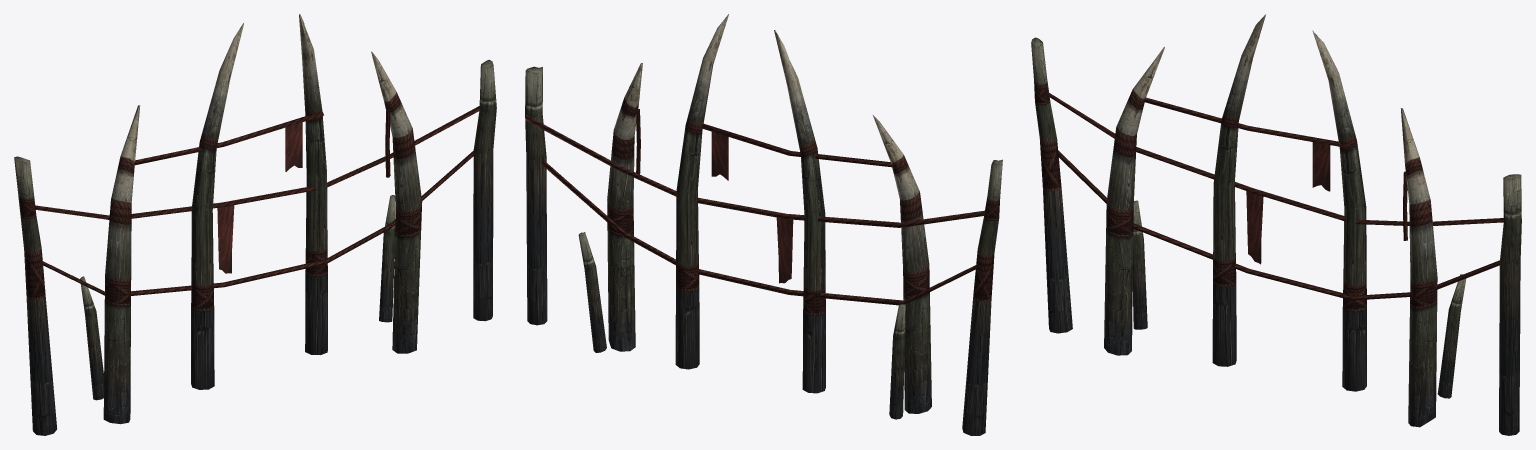
File: camp_redthief_gate_01.fbx
3 views of the same model, side by side, from view 1: azimuth 30°, elevation 25°; view 2: azimuth 150°, elevation 25°; view 3: azimuth 330°, elevation 25° (orthographic). The views are drawn at different scales.
Visible parts, largest first — view 1: camp_redthief_gate_01; view 2: camp_redthief_gate_01; view 3: camp_redthief_gate_01.
Part boxes in pixels (bbox=[...]): camp_redthief_gate_01: bbox=[14, 14, 496, 435]; camp_redthief_gate_01: bbox=[525, 14, 1002, 435]; camp_redthief_gate_01: bbox=[1031, 14, 1521, 435].
Bounding box in the file's own units: 13.96 × 10.05 × 2.03.
